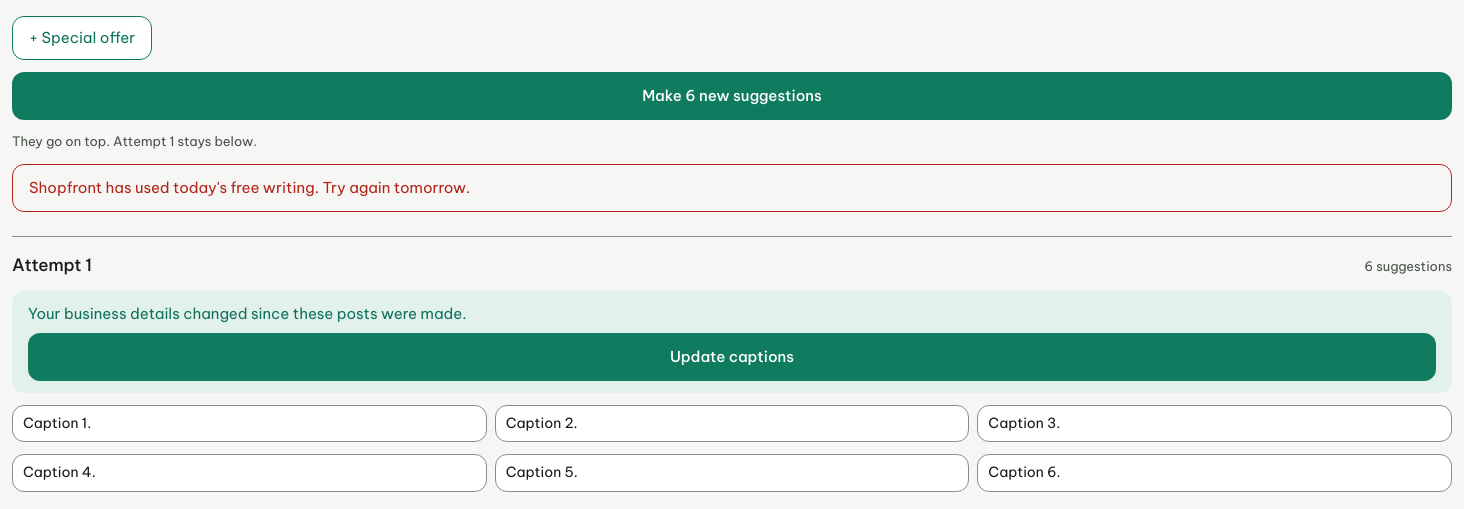
Scenario: captions follow the business by themselves › Update captions after a failure tries again
This screenshot has width=1464, height=509.
Step 1. Click the button "Update captions" → (732, 357), box 28,333 -> 1436,381
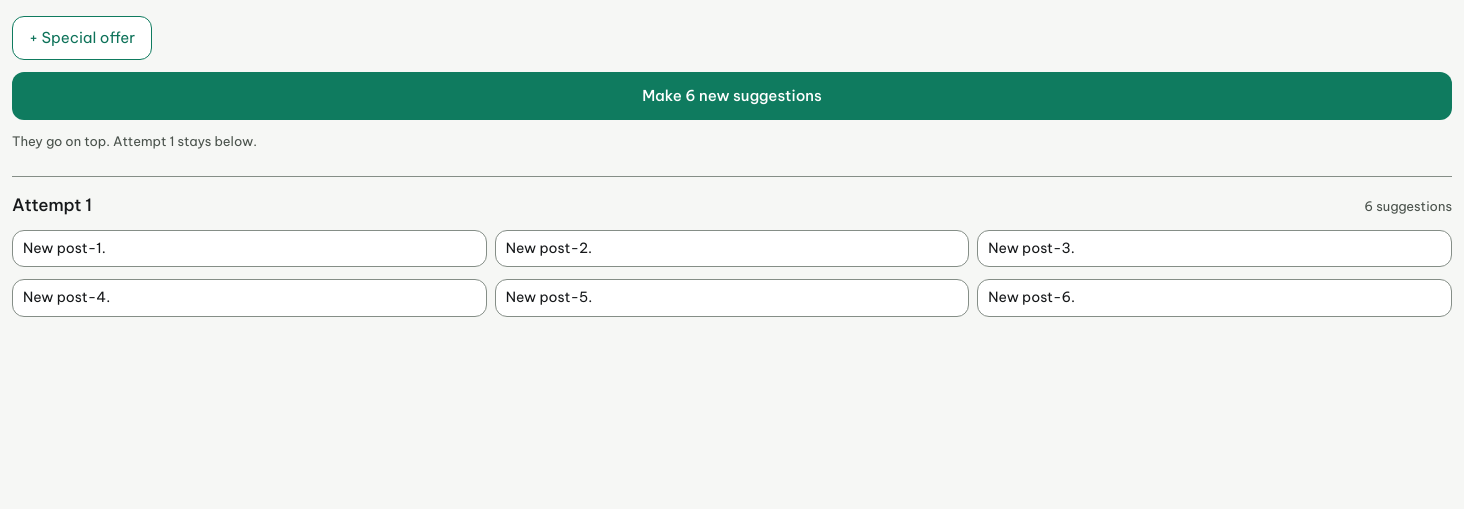
Expected: the text "New post-1." is shown, 23,239 -> 106,257
Expected: the button "Update captions" is gone
